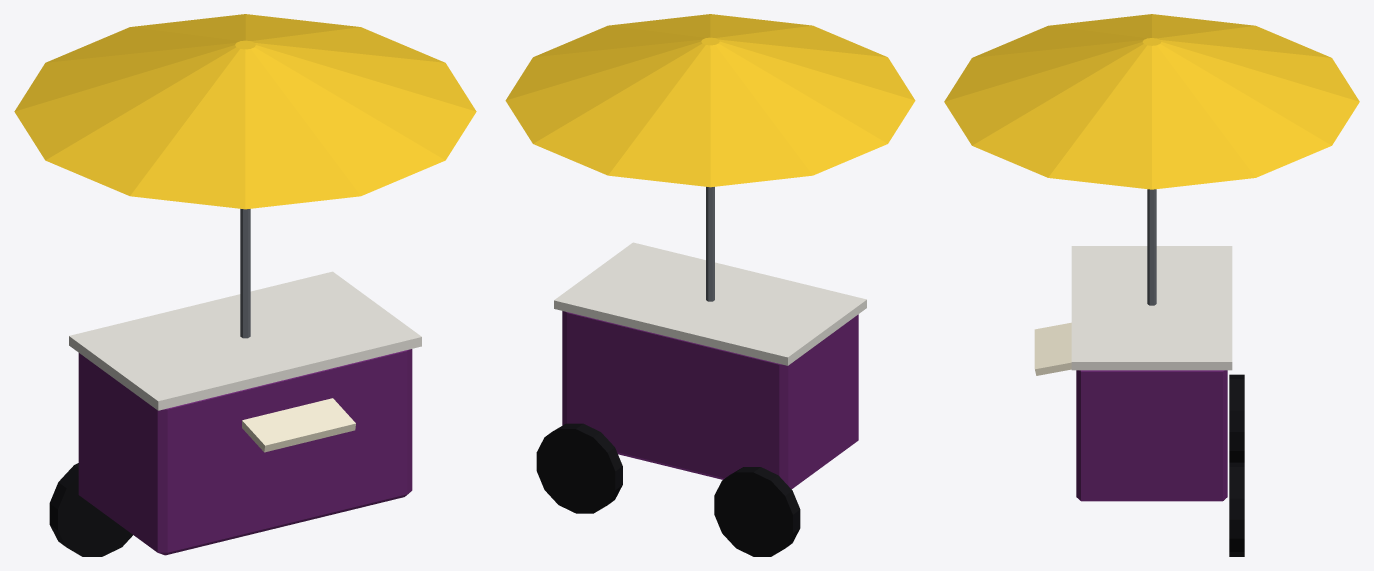
Rendered from acai_cart.glb.
3 renders of one model, left to right at view 1: azimuth 30°, elevation 25°; view 2: azimuth 150°, elevation 25°; view 3: azimuth 270°, elevation 25°, orthographic. The views are drawn at different scales.
Visible parts, largest first — view 1: Cube; view 2: Cube; view 3: Cube.
Part boxes in pixels (x1,y1,x2,y2): Cube: (14,14,476,556); Cube: (505,14,915,556); Cube: (944,14,1359,556).
Size of the model in its own units: 2.2 by 2.72 by 2.2.
